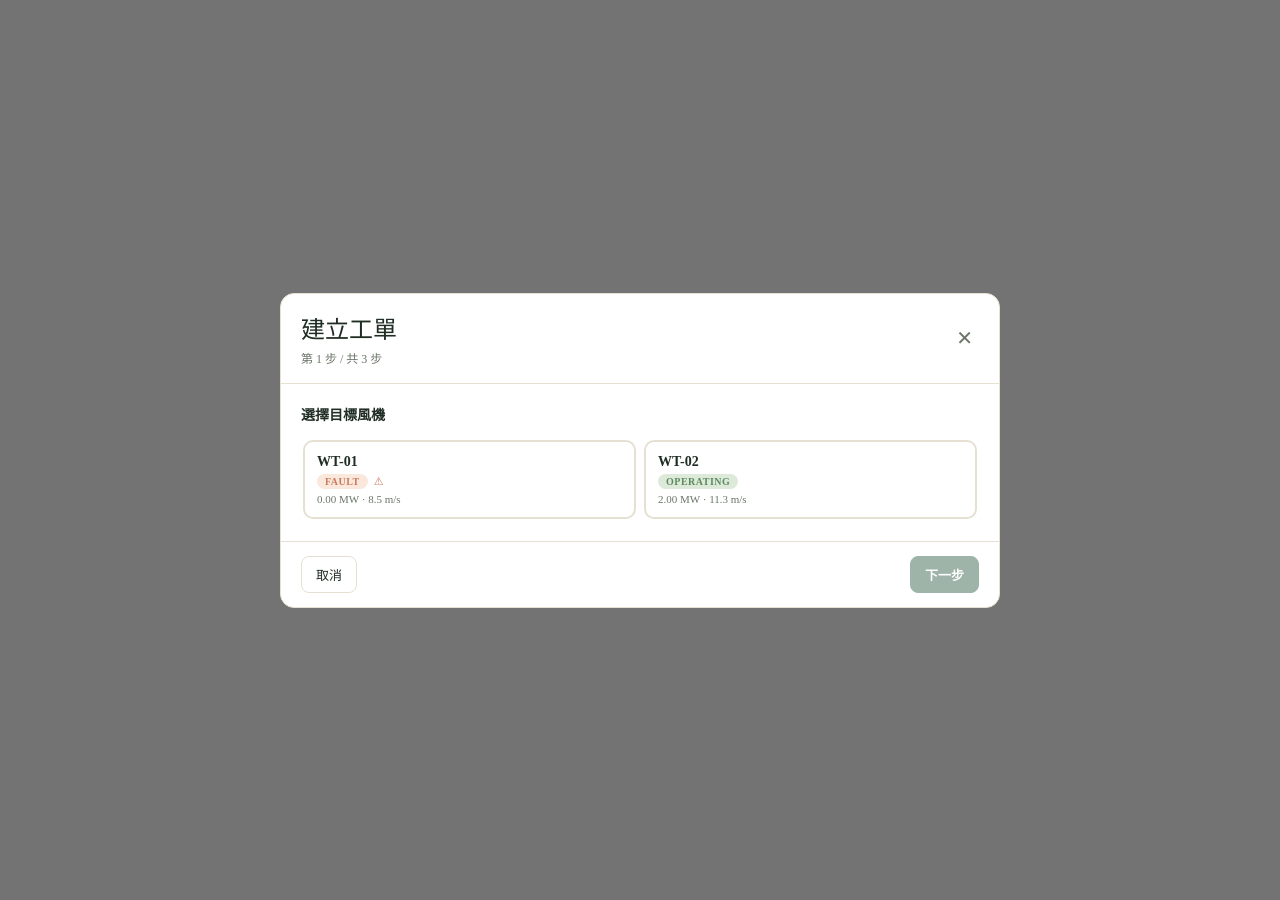
Test: CreateWorkOrderWizard — Step 1 選風機 › 未選風機時下一步 disabled；選後啟用並 aria-pressed
Expected: the button "下一步" is disabled, [910, 556, 979, 592]
Step 1. Click the button "WT-01 FAULT ⚠ 0.00 MW · 8.5 m/s" → click(337, 461), box [303, 440, 636, 518]
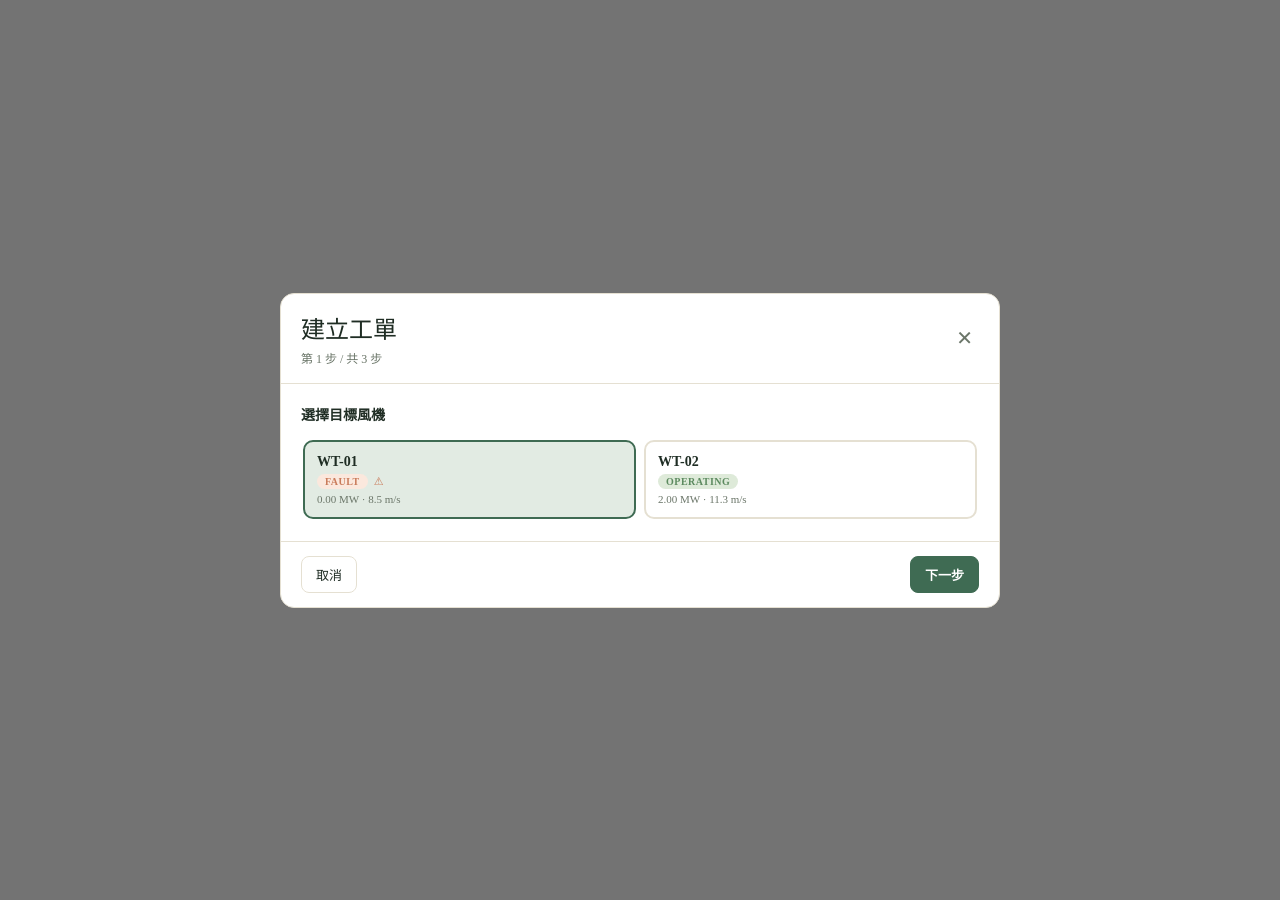
Expected: the button "下一步" is enabled, [910, 556, 979, 592]
